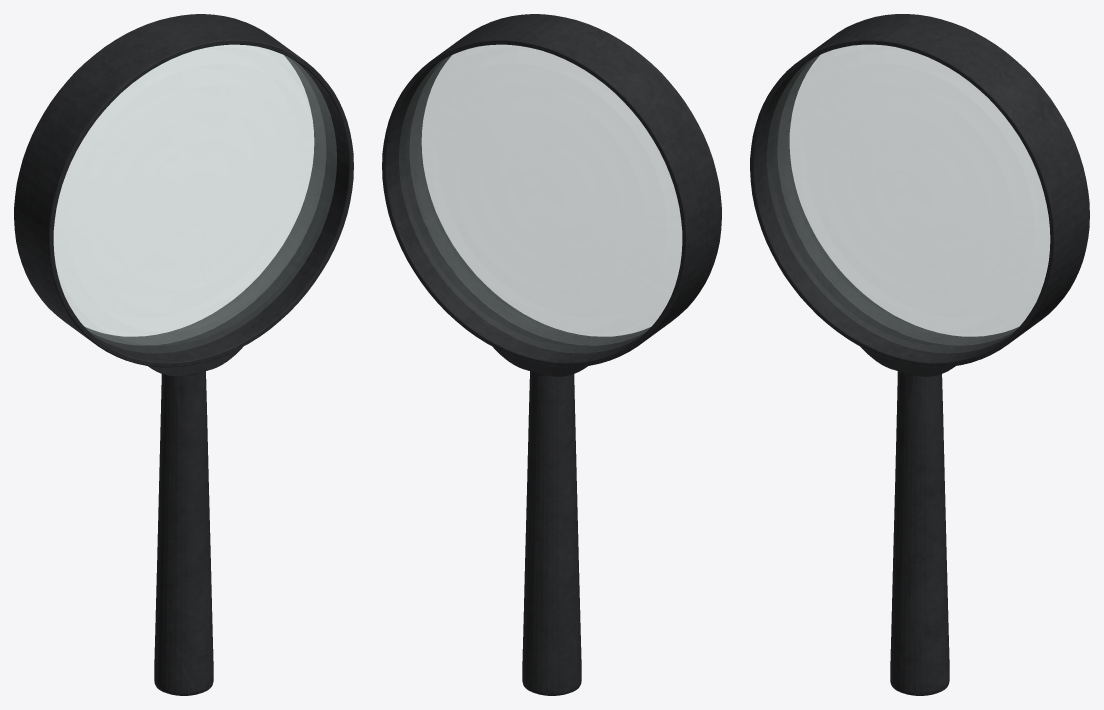
Rendered from MagnifyingGlass.obj.
The picture shows the model from 3 angles, left to right: view 1: azimuth 30°, elevation 25°; view 2: azimuth 150°, elevation 25°; view 3: azimuth 330°, elevation 25°; orthographic projection.
Visible parts, largest first — view 1: Sphere_002_1, Sphere_002; view 2: Sphere_002_1, Sphere_002; view 3: Sphere_002_1, Sphere_002.
Boxes of the visible parts, x1,y1,x2,y2 form: Sphere_002_1: (54, 45, 336, 352); Sphere_002: (14, 14, 353, 695); Sphere_002_1: (399, 45, 681, 352); Sphere_002: (382, 14, 721, 695); Sphere_002_1: (767, 45, 1049, 352); Sphere_002: (750, 14, 1089, 695).
Size of the model in its own units: 0.1322 by 0.2716 by 0.0268.
2 materials, 1 textured.
